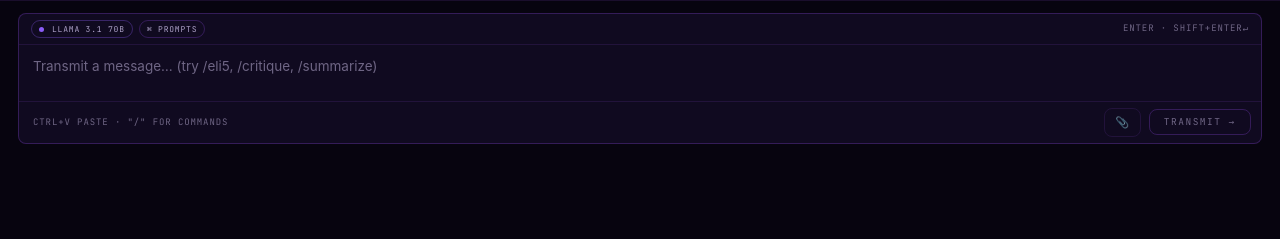
ChatInput › typing "/" opens the slash command menu
Type "/eli5" into the text box with placeholder "Transmit a message… (try /eli5, /critique, /summarize)" at (640, 73), box [19,45,1261,101]
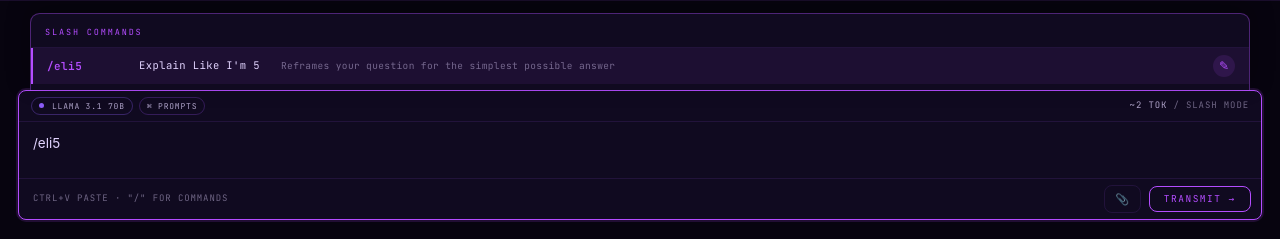
Now the text "Explain Like I'm 5" is shown, box [139,58,269,74]
